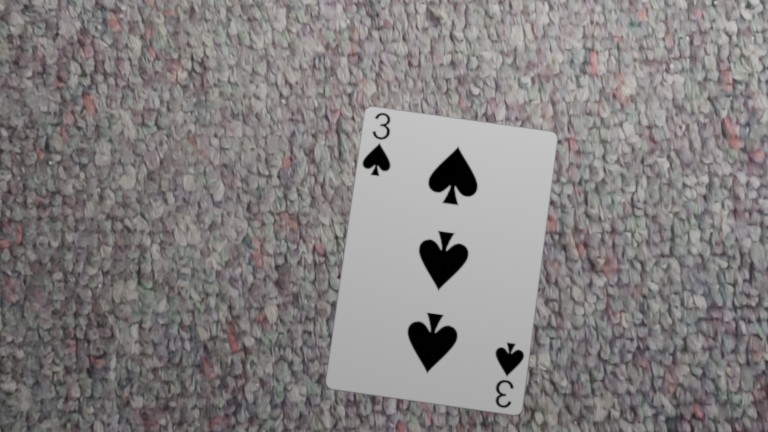3_of_spades: (194, 136, 212, 164), (143, 44, 161, 72)
